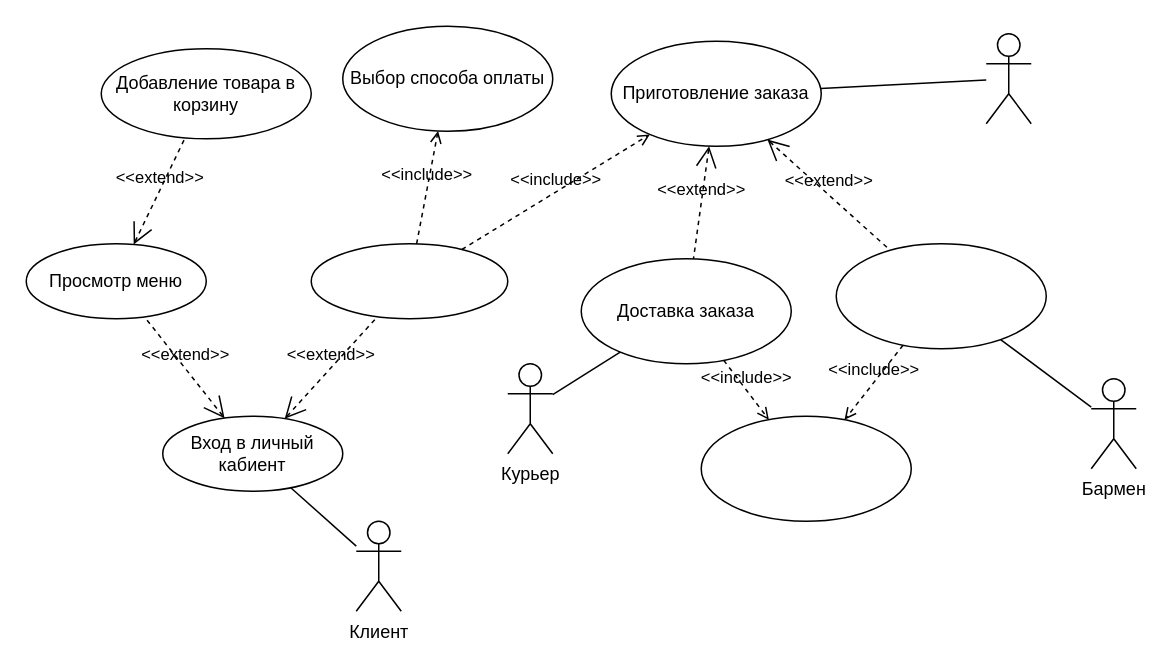
Some shapes in this 1172 by 669 pixel diagram are drawn without their labels. The centre of each missing label's shape, as x and y in pixels:
"Оплата и получение заказа" belongs at (805,468).
"Оформление заказа" belongs at (409,280).
"Повар" belongs at (1008,78).
"Самовывоз заказа" belongs at (940,295).
